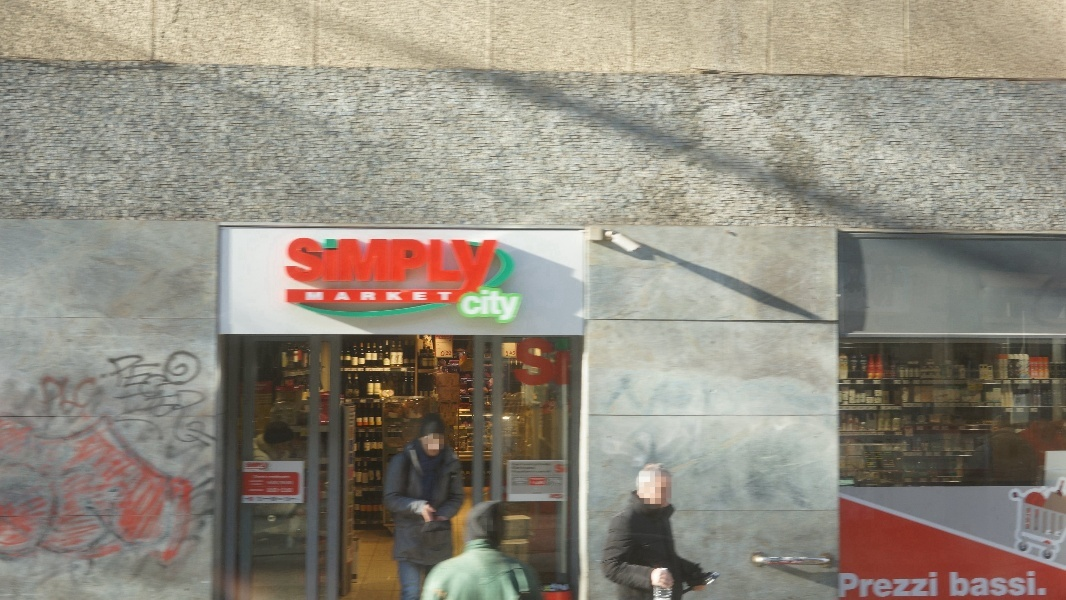text: (1, 346, 16, 573), (17, 346, 32, 573), (33, 346, 48, 573), (49, 346, 64, 573), (65, 346, 80, 573), (81, 346, 96, 573), (97, 346, 112, 573), (113, 346, 128, 573), (129, 346, 144, 573), (145, 346, 160, 573), (161, 346, 176, 573), (177, 346, 192, 573), (193, 346, 207, 573), (481, 238, 497, 292), (289, 238, 304, 292), (305, 238, 320, 292), (321, 238, 336, 292), (337, 238, 352, 292), (353, 238, 368, 292), (369, 238, 384, 292), (385, 238, 400, 292), (401, 238, 416, 292), (417, 238, 432, 292), (433, 238, 448, 292), (449, 238, 464, 292), (465, 238, 480, 292), (529, 338, 544, 386), (545, 338, 560, 386), (465, 286, 480, 328), (481, 286, 496, 328), (497, 286, 512, 328), (515, 338, 528, 386), (257, 463, 272, 502), (273, 463, 288, 502), (513, 461, 528, 499), (529, 461, 544, 499), (545, 461, 560, 499), (243, 463, 256, 502), (513, 286, 525, 328), (289, 463, 301, 502), (561, 338, 570, 386), (849, 572, 864, 598), (865, 572, 880, 598), (881, 572, 896, 598), (897, 572, 912, 598), (913, 572, 928, 598), (961, 571, 976, 596), (977, 571, 992, 596), (993, 571, 1008, 596), (1009, 571, 1024, 596), (1025, 571, 1040, 596), (457, 286, 464, 328), (837, 572, 848, 598), (949, 571, 960, 596), (1041, 571, 1052, 596), (561, 461, 568, 499), (929, 572, 939, 598), (435, 336, 448, 352), (305, 291, 320, 301), (321, 291, 336, 301), (337, 291, 352, 301), (353, 291, 368, 301), (369, 291, 384, 301), (385, 291, 400, 301), (401, 291, 416, 301), (417, 291, 432, 301), (433, 291, 448, 301), (1025, 508, 1031, 530), (510, 461, 512, 499), (449, 291, 454, 301), (449, 336, 452, 352), (441, 351, 448, 357), (506, 351, 512, 357), (513, 351, 516, 357), (449, 351, 452, 357)
